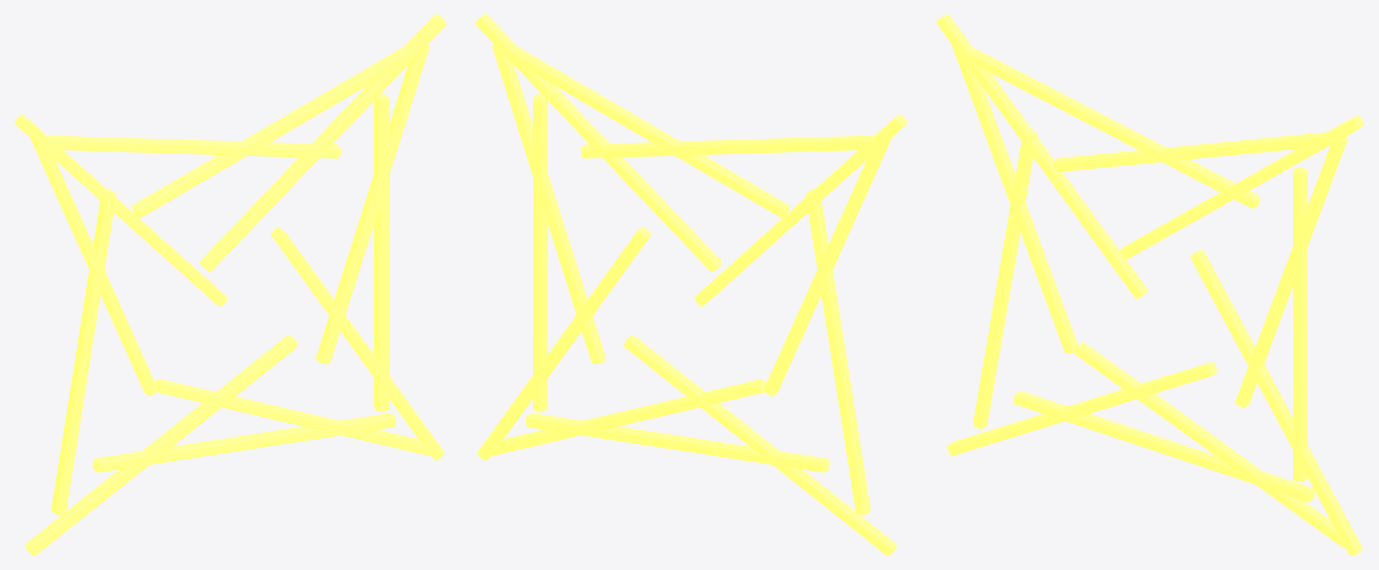
File: VXDR_INTERCEPT_v001_FX.fbx
3 renders of one model, left to right at view 1: azimuth 30°, elevation 25°; view 2: azimuth 150°, elevation 25°; view 3: azimuth 330°, elevation 25°, orthographic.
Visible parts, largest first — view 1: Impact spark.007, Impact spark.003, Impact spark.011, Impact spark.004, Impact spark.008, Impact spark, Impact spark.002, Impact spark.006, Impact spark.009, Impact spark.010, Impact spark.005, Impact spark.001; view 2: Impact spark.007, Impact spark.011, Impact spark.003, Impact spark.004, Impact spark.008, Impact spark, Impact spark.002, Impact spark.006, Impact spark.009, Impact spark.005, Impact spark.010, Impact spark.001; view 3: Impact spark.001, Impact spark.005, Impact spark.006, Impact spark.009, Impact spark.010, Impact spark.002, Impact spark, Impact spark.004, Impact spark.011, Impact spark.008, Impact spark.007, Impact spark.003.
Part boxes in pixels (bbox=[...]): Impact spark.007: bbox=[25, 335, 297, 555]; Impact spark.003: bbox=[200, 14, 446, 271]; Impact spark.011: bbox=[132, 46, 422, 217]; Impact spark.004: bbox=[51, 190, 116, 514]; Impact spark.008: bbox=[316, 44, 429, 364]; Impact spark: bbox=[374, 94, 388, 411]; Impact spark.002: bbox=[92, 413, 396, 472]; Impact spark.006: bbox=[48, 135, 341, 158]; Impact spark.009: bbox=[30, 137, 158, 396]; Impact spark.010: bbox=[155, 378, 432, 455]; Impact spark.005: bbox=[271, 227, 444, 460]; Impact spark.001: bbox=[14, 114, 227, 306]; Impact spark.007: bbox=[624, 335, 896, 555]; Impact spark.011: bbox=[500, 46, 789, 217]; Impact spark.003: bbox=[475, 14, 721, 271]; Impact spark.004: bbox=[805, 190, 870, 514]; Impact spark.008: bbox=[492, 44, 605, 364]; Impact spark: bbox=[533, 94, 547, 411]; Impact spark.002: bbox=[525, 413, 829, 472]; Impact spark.006: bbox=[580, 135, 873, 158]; Impact spark.009: bbox=[763, 136, 891, 396]; Impact spark.005: bbox=[477, 227, 650, 460]; Impact spark.010: bbox=[489, 378, 766, 455]; Impact spark.001: bbox=[694, 114, 907, 306]; Impact spark.001: bbox=[936, 14, 1147, 298]; Impact spark.005: bbox=[1190, 250, 1362, 555]; Impact spark.006: bbox=[968, 48, 1260, 208]; Impact spark.009: bbox=[951, 41, 1078, 353]; Impact spark.010: bbox=[1074, 342, 1344, 547]; Impact spark.002: bbox=[1014, 391, 1314, 501]; Impact spark: bbox=[1293, 167, 1307, 482]; Impact spark.004: bbox=[973, 130, 1037, 428]; Impact spark.011: bbox=[1053, 132, 1334, 171]; Impact spark.008: bbox=[1235, 136, 1347, 408]; Impact spark.007: bbox=[947, 362, 1217, 455]; Impact spark.003: bbox=[1120, 115, 1364, 259].
Bounding box in the file's own units: 19.96 × 19.79 × 0.5.
